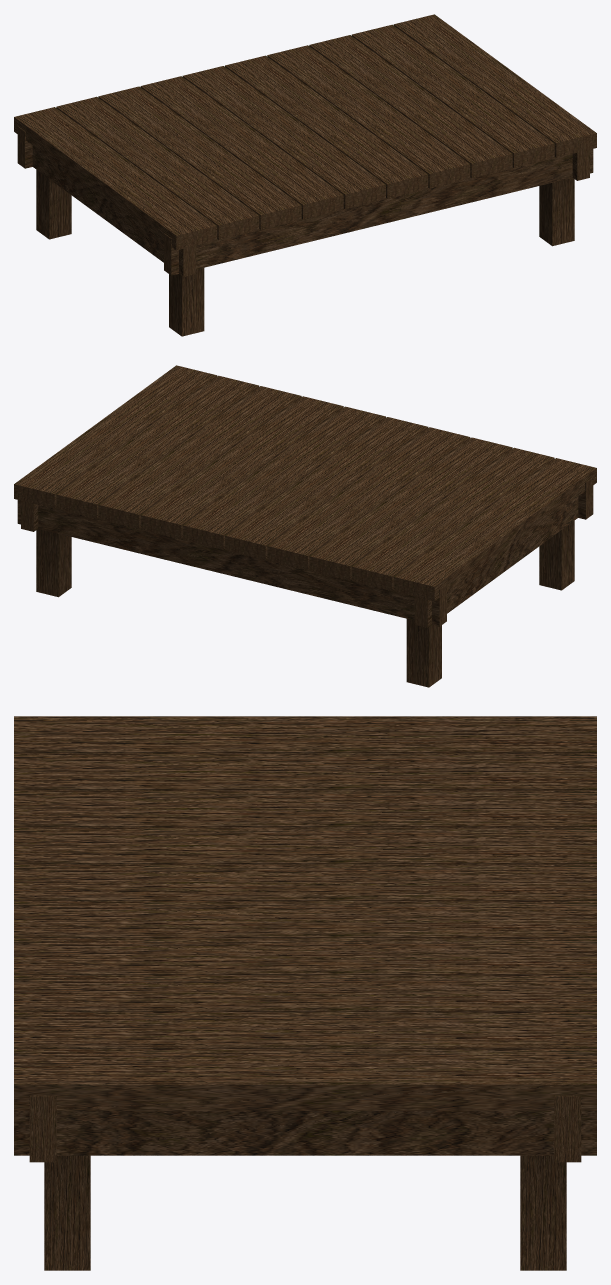
File: prop_chouki.glb
3 renders of one model, top to bottom at view 1: azimuth 30°, elevation 25°; view 2: azimuth 150°, elevation 25°; view 3: azimuth 270°, elevation 25°, orthographic. The views are drawn at different scales.
Visible parts, largest first — view 1: prop_chouki; view 2: prop_chouki; view 3: prop_chouki.
Boxes of the visible parts, x1=… form: prop_chouki: x1=14, y1=14, x2=596, y2=336; prop_chouki: x1=14, y1=365, x2=596, y2=687; prop_chouki: x1=14, y1=716, x2=596, y2=1270.
Bounding box in the file's own units: 1.8 × 0.45 × 1.2.
1 material, 1 textured.
